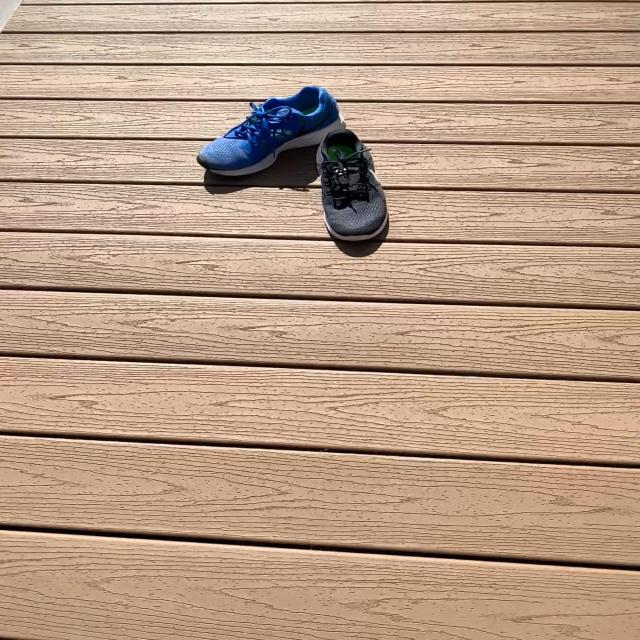shoe: (195, 87, 346, 179), (317, 132, 388, 242)
